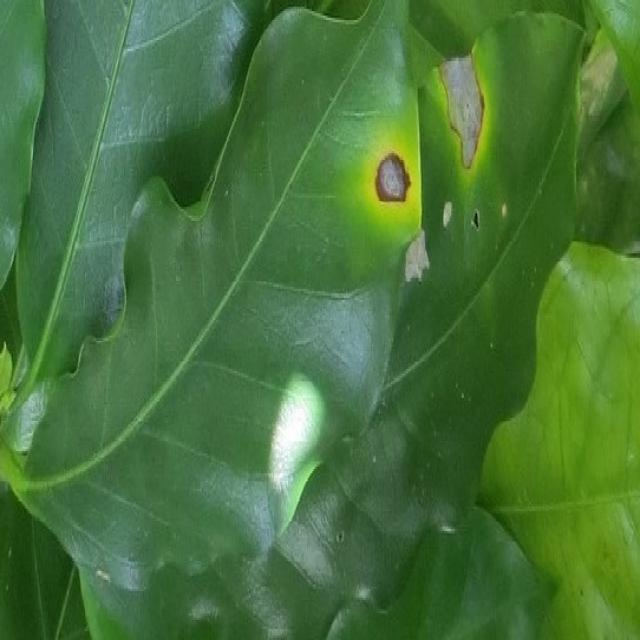Enfermedad-Mancha-de-hierro: (34, 0, 417, 567)
